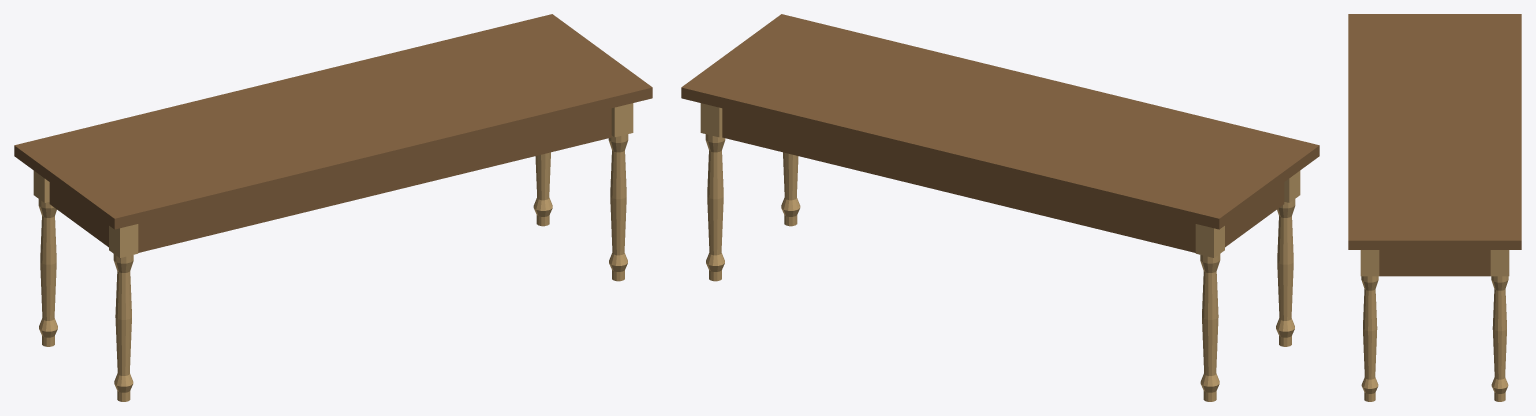
The model's file is FET-BEB-std.glb.
3 views of the same model, side by side, from view 1: azimuth 30°, elevation 25°; view 2: azimuth 150°, elevation 25°; view 3: azimuth 270°, elevation 25° (orthographic). The views are drawn at different scales.
Parts seen in each view (by area): view 1: top:pbr, apron-f:pbr, leg-fl:pbr, leg-fr:pbr, leg-bl:pbr, apron-l:pbr, leg-br:pbr; view 2: top:pbr, apron-b:pbr, leg-bl:pbr, leg-br:pbr, leg-fl:pbr, apron-l:pbr, leg-fr:pbr; view 3: top:pbr, apron-r:pbr, leg-fr:pbr, leg-br:pbr.
Part boxes in pixels (x1,y1,x2,y2): top:pbr: (14, 14, 652, 229); apron-f:pbr: (138, 108, 611, 252); leg-fl:pbr: (109, 224, 138, 401); leg-fr:pbr: (608, 103, 633, 281); leg-bl:pbr: (33, 171, 57, 346); apron-l:pbr: (49, 182, 108, 247); leg-br:pbr: (533, 152, 552, 226); top:pbr: (681, 14, 1319, 229); apron-b:pbr: (722, 108, 1195, 252); leg-bl:pbr: (1195, 224, 1224, 401); leg-br:pbr: (700, 103, 725, 281); leg-fl:pbr: (1276, 171, 1300, 346); apron-l:pbr: (1225, 182, 1284, 247); leg-fr:pbr: (781, 152, 800, 226); top:pbr: (1348, 14, 1521, 249); apron-r:pbr: (1379, 250, 1490, 276); leg-fr:pbr: (1360, 250, 1379, 401); leg-br:pbr: (1490, 250, 1509, 401).
Bounding box in the file's own units: 1.3 × 0.45 × 0.42.
